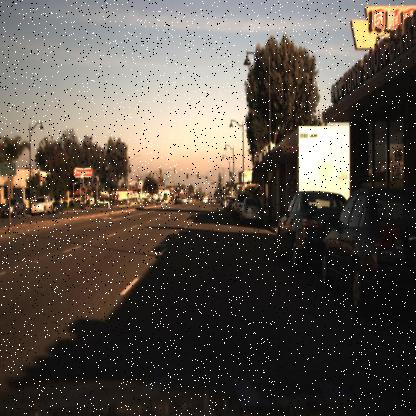car: (317, 189, 416, 320), (274, 189, 351, 278), (27, 192, 52, 218), (238, 196, 261, 222), (29, 193, 52, 213), (51, 200, 67, 216)
